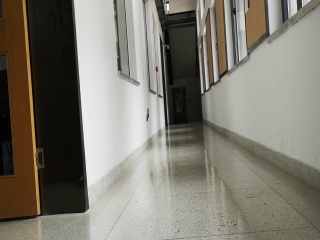room: (2, 3, 91, 219)
